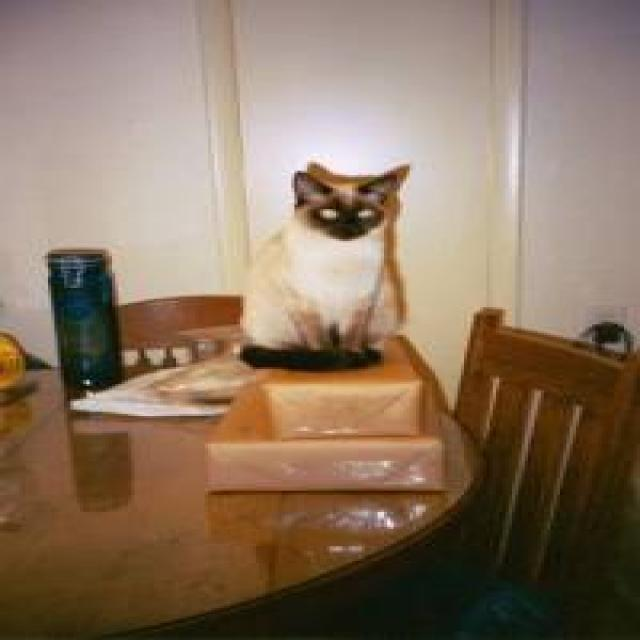Siamese: (285, 159, 419, 249)
